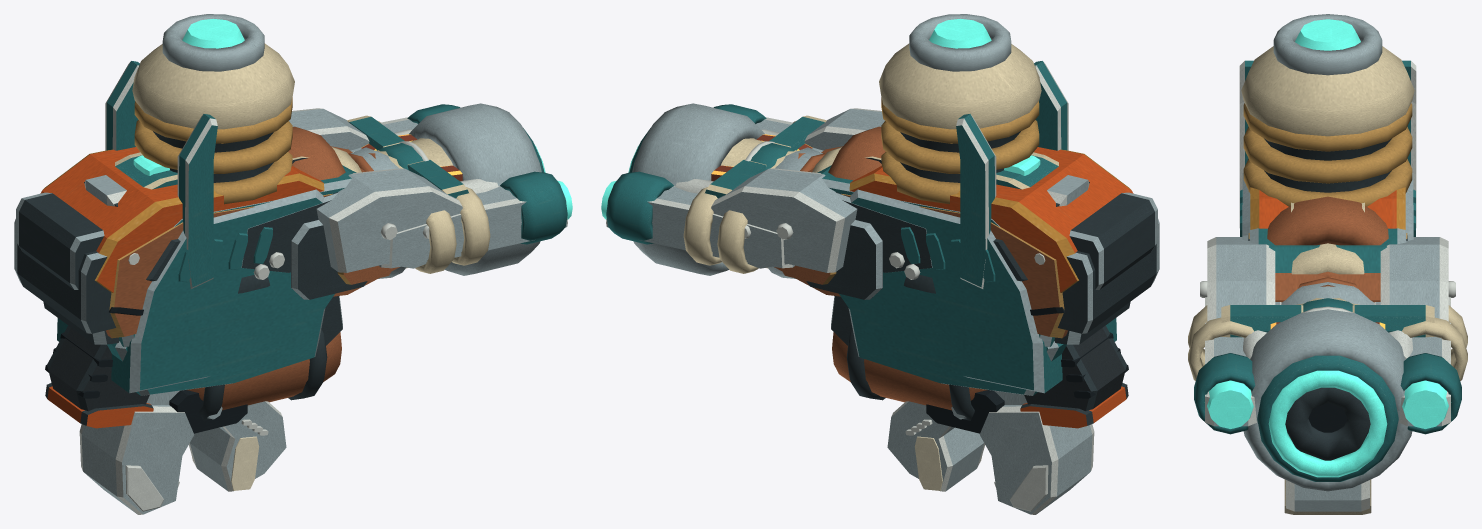
File: weapons-dcc.glb
The picture shows the model from 3 angles, left to right: view 1: azimuth 30°, elevation 25°; view 2: azimuth 150°, elevation 25°; view 3: azimuth 270°, elevation 25°; orthographic projection. The views are drawn at different scales.
Visible parts, largest first — view 1: traction_coil, induction, arc_gun, wrench, split_probe, hydraulic_nailer, pulse_nozzle, torch, bypass_wrench; view 2: traction_coil, induction, arc_gun, wrench, split_probe, hydraulic_nailer, pulse_nozzle, torch, bypass_wrench; view 3: induction, pulse_nozzle, traction_coil, split_probe, hydraulic_nailer, arc_gun, wrench, bypass_wrench.
Part boxes in pixels (x1,y1,x2,y2): traction_coil: [57, 108, 468, 393]; induction: [105, 14, 325, 395]; arc_gun: [16, 141, 428, 428]; wrench: [79, 175, 286, 514]; split_probe: [291, 104, 572, 299]; hydraulic_nailer: [14, 129, 498, 345]; pulse_nozzle: [119, 103, 545, 347]; torch: [186, 134, 462, 420]; bypass_wrench: [192, 436, 259, 490]; traction_coil: [705, 108, 1116, 393]; induction: [848, 14, 1068, 395]; arc_gun: [745, 141, 1157, 428]; wrench: [887, 175, 1094, 514]; split_probe: [601, 104, 882, 299]; hydraulic_nailer: [675, 129, 1159, 345]; pulse_nozzle: [628, 103, 1054, 347]; torch: [711, 134, 987, 420]; bypass_wrench: [914, 436, 981, 490]; induction: [1239, 14, 1416, 227]; pulse_nozzle: [1243, 193, 1412, 491]; traction_coil: [1200, 173, 1455, 337]; split_probe: [1188, 297, 1467, 434]; hydraulic_nailer: [1242, 191, 1413, 460]; arc_gun: [1240, 187, 1415, 312]; wrench: [1286, 480, 1369, 511]; bypass_wrench: [1284, 479, 1371, 514].
Size of the model in its own units: 0.9775 by 0.878 by 0.468.
1 material, 1 textured.
